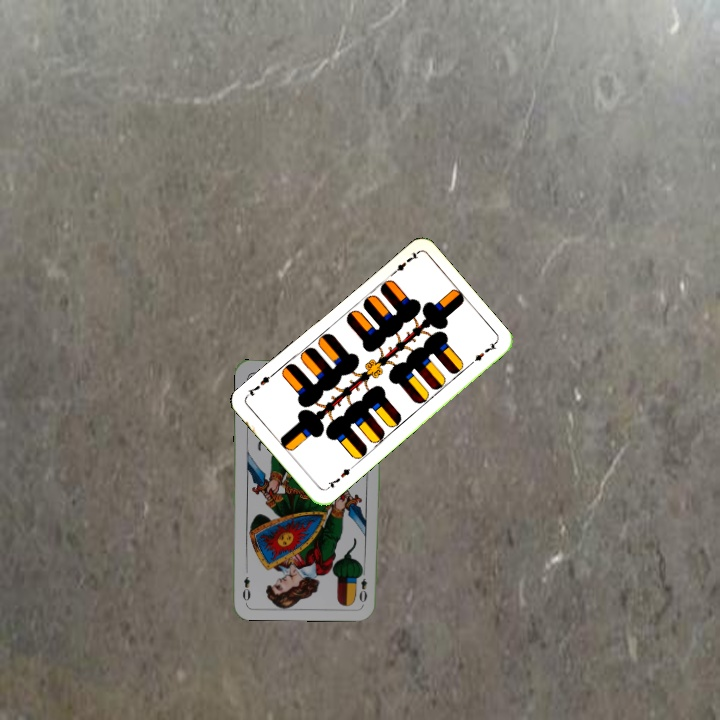E7: (387, 248, 421, 279), (322, 462, 356, 492)
EO: (355, 565, 370, 605)
